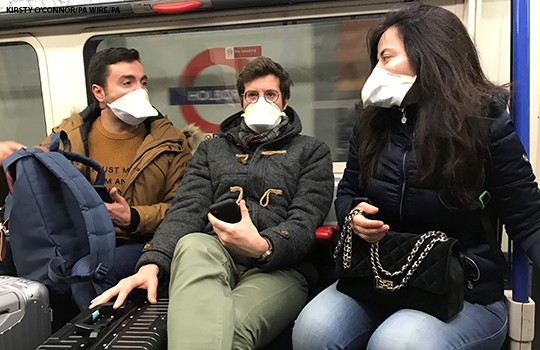with_mask: (359, 46, 409, 109), (106, 77, 159, 128), (243, 90, 284, 131)
